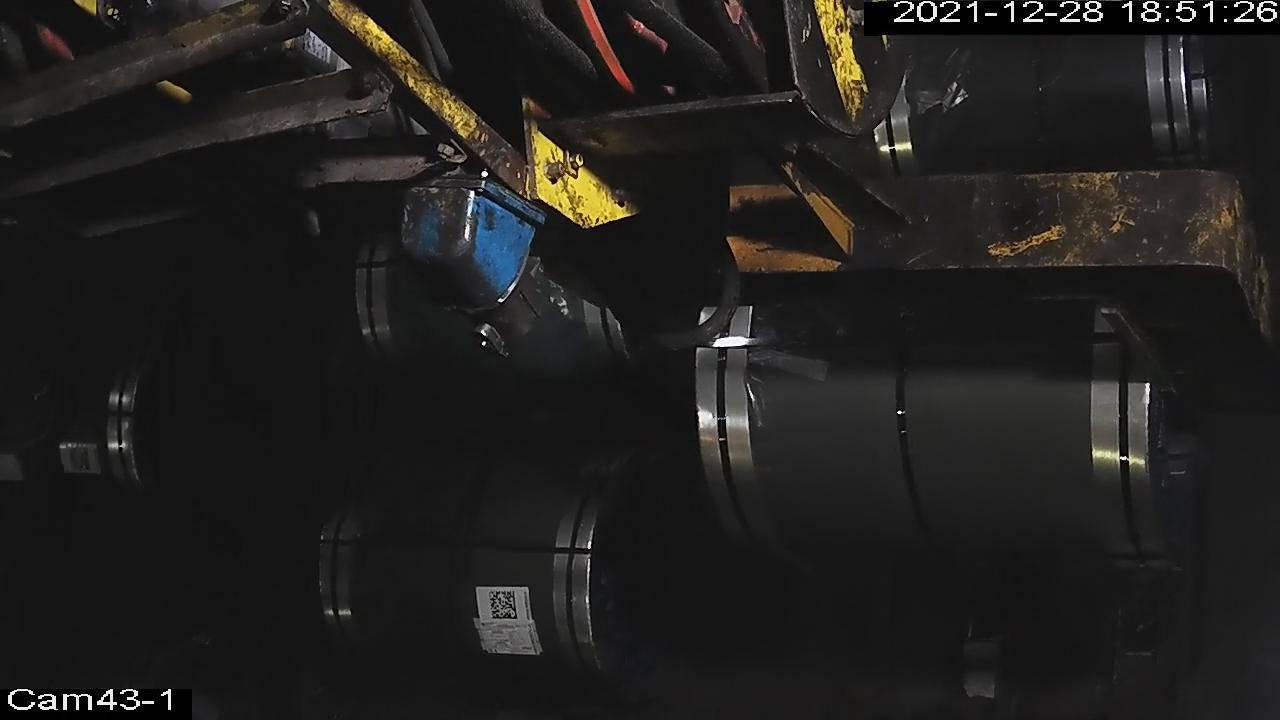data matrix: (485, 589, 520, 624)
